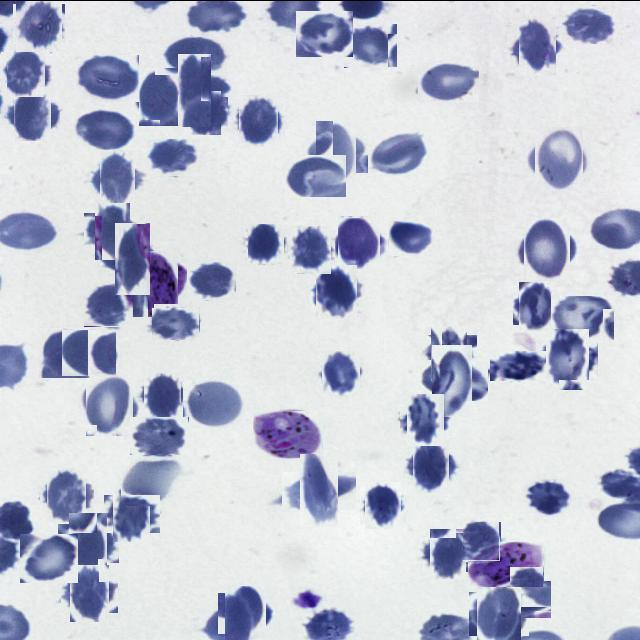difficult: (468, 541, 544, 587)
gametocyte: (126, 255, 183, 311)
red blood cell: (530, 130, 587, 186), (121, 454, 183, 505), (82, 376, 138, 432), (424, 352, 480, 408), (291, 462, 347, 518), (73, 54, 138, 101), (551, 293, 615, 340), (183, 379, 245, 427), (520, 222, 574, 276), (106, 231, 160, 285), (168, 62, 222, 116), (19, 533, 78, 582), (282, 154, 347, 197), (541, 332, 593, 384), (310, 126, 362, 178), (473, 587, 525, 639), (294, 10, 352, 56), (38, 327, 90, 378), (74, 107, 135, 150), (62, 329, 117, 376), (136, 71, 187, 121), (163, 36, 230, 74), (370, 131, 429, 174), (64, 518, 114, 568), (14, 1, 64, 51), (130, 416, 189, 458), (416, 62, 478, 101), (344, 23, 398, 67), (65, 568, 114, 616), (336, 218, 384, 266), (313, 266, 361, 314), (222, 588, 270, 636), (94, 154, 141, 202), (108, 489, 155, 536), (44, 470, 90, 518), (515, 22, 561, 70), (84, 282, 134, 326), (495, 580, 552, 618), (562, 5, 618, 43), (408, 442, 454, 488), (236, 97, 282, 143), (90, 207, 136, 253), (10, 90, 56, 136), (427, 330, 472, 376), (288, 227, 333, 272), (4, 48, 49, 93), (404, 396, 448, 442), (147, 138, 200, 176), (516, 283, 559, 327), (426, 531, 469, 575), (187, 261, 236, 299), (525, 478, 574, 516), (319, 352, 362, 394), (142, 374, 184, 417), (362, 484, 404, 526), (490, 350, 546, 380), (389, 220, 435, 255), (152, 307, 200, 340), (246, 224, 285, 264), (462, 520, 500, 560), (187, 93, 225, 131)
trophozoite: (253, 410, 323, 458)
